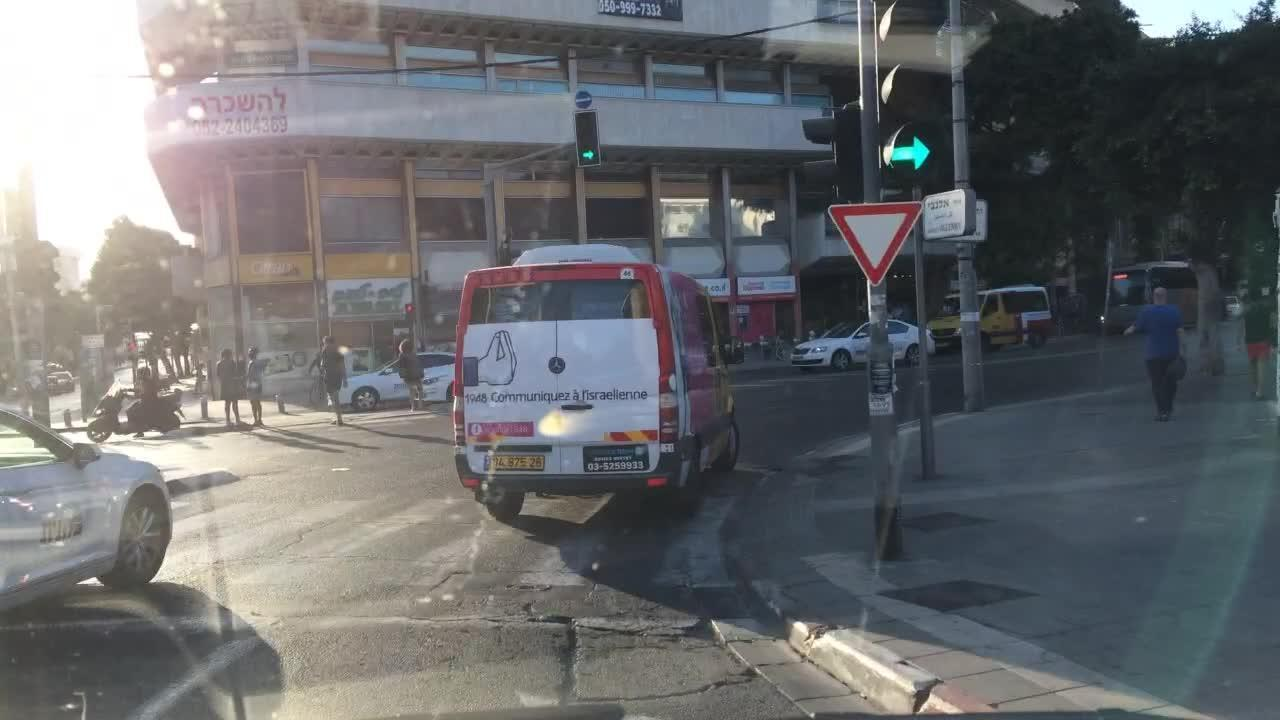Mercedes: (546, 352, 568, 379)
